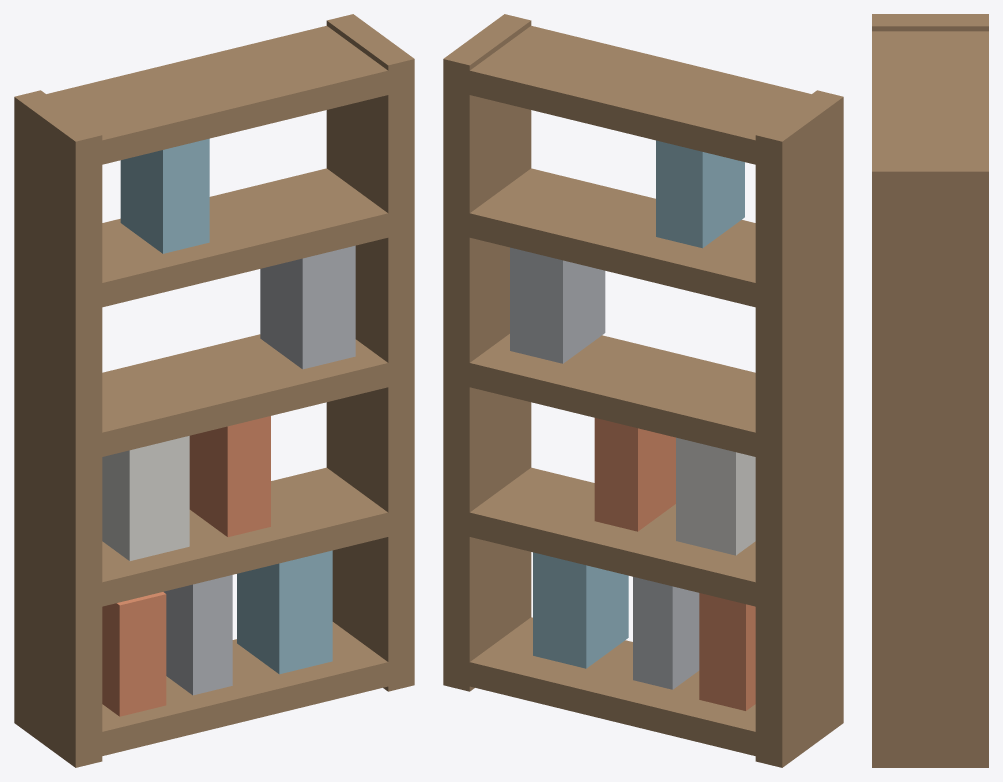
3 views of the same model, side by side, from view 1: azimuth 30°, elevation 25°; view 2: azimuth 150°, elevation 25°; view 3: azimuth 270°, elevation 25° (orthographic). The views are drawn at different scales.
Visible parts, largest first — view 1: Side.L, Side.R, Shelf.5, Shelf.3, Shelf.4, Shelf.2, Shelf.1, Book.3, Book.6, Book.4, Book.7, Book.5 (+2 smaller); view 2: Side.L, Side.R, Shelf.5, Shelf.4, Shelf.3, Shelf.2, Shelf.1, Book.3, Book.6, Book.4, Book.5, Book.7 (+2 smaller); view 3: Side.R, Shelf.5, Side.L.
Part boxes in pixels (box(x1,y1,x2,y2)): Side.L: box(14, 90, 102, 767); Side.R: box(326, 14, 414, 691); Shelf.5: box(46, 25, 401, 166); Shelf.3: box(89, 334, 400, 459); Shelf.4: box(89, 168, 401, 310); Shelf.2: box(89, 467, 401, 606); Shelf.1: box(89, 622, 401, 755); Book.3: box(237, 550, 332, 674); Book.6: box(260, 245, 355, 369); Book.4: box(102, 436, 189, 560); Book.7: box(120, 138, 209, 253); Book.5: box(189, 416, 270, 537); Side.L: box(755, 90, 843, 767); Side.R: box(443, 14, 531, 691); Shelf.5: box(457, 25, 811, 167); Shelf.4: box(457, 168, 768, 308); Shelf.3: box(456, 334, 768, 457); Shelf.2: box(456, 467, 768, 606); Shelf.1: box(458, 617, 768, 755); Book.3: box(533, 552, 628, 668); Book.6: box(510, 247, 605, 363); Book.4: box(676, 437, 755, 555); Book.5: box(594, 418, 675, 531); Book.7: box(656, 140, 744, 248); Side.R: box(872, 159, 988, 767); Shelf.5: box(872, 31, 988, 159); Side.L: box(872, 14, 988, 31).
Bounding box in the file's own units: 1.02 × 1.8 × 0.32.
